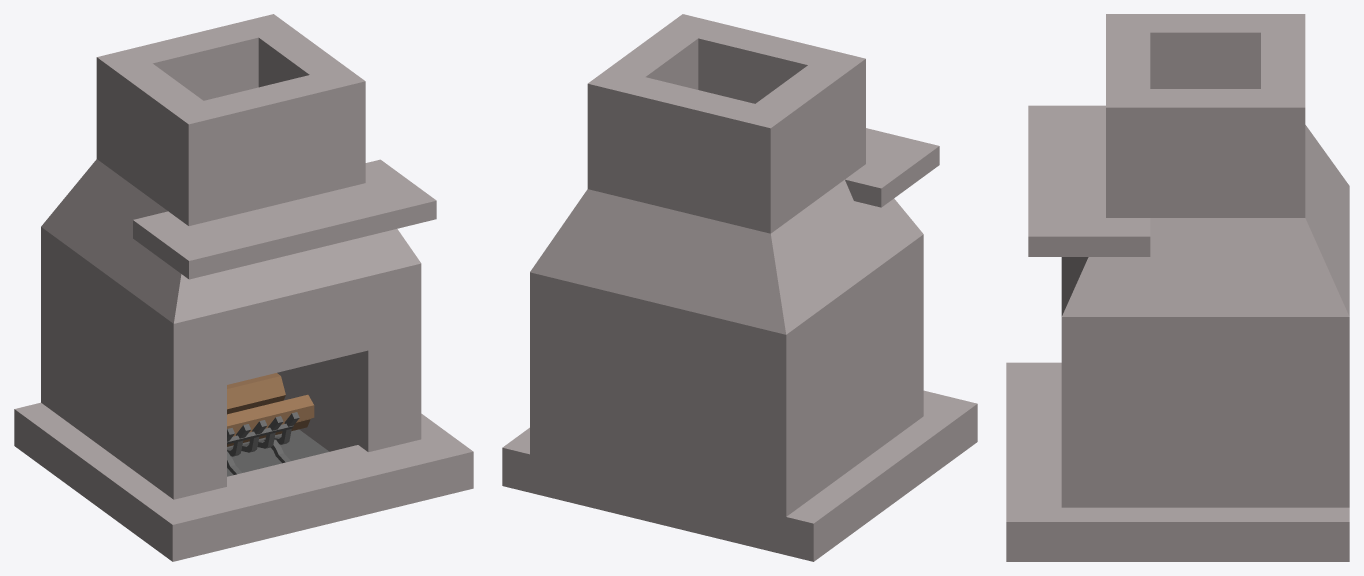
Rendered from Props_Fireplace.obj.
3 renders of one model, left to right at view 1: azimuth 30°, elevation 25°; view 2: azimuth 150°, elevation 25°; view 3: azimuth 270°, elevation 25°, orthographic. The views are drawn at different scales.
Parts seen in each view (by area): view 1: object2, object5, object3, object4; view 2: object2; view 3: object2.
Boxes of the visible parts, box(x1,y1,x2,y2) form: object2: box(14, 14, 473, 561); object5: box(227, 412, 299, 474); object3: box(227, 373, 285, 414); object4: box(227, 394, 314, 436); object2: box(502, 14, 977, 561); object2: box(1006, 14, 1349, 561).
Bounding box in the file's own units: 1.7 × 2.1 × 1.55.
